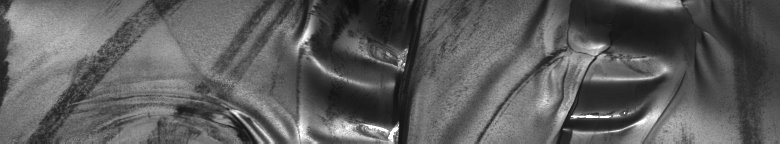ke: (4, 4, 712, 136)
